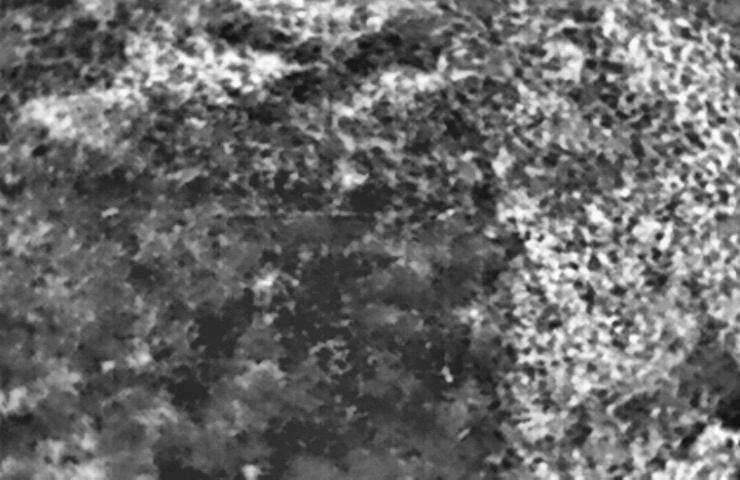landmines: (248, 267, 290, 298)
